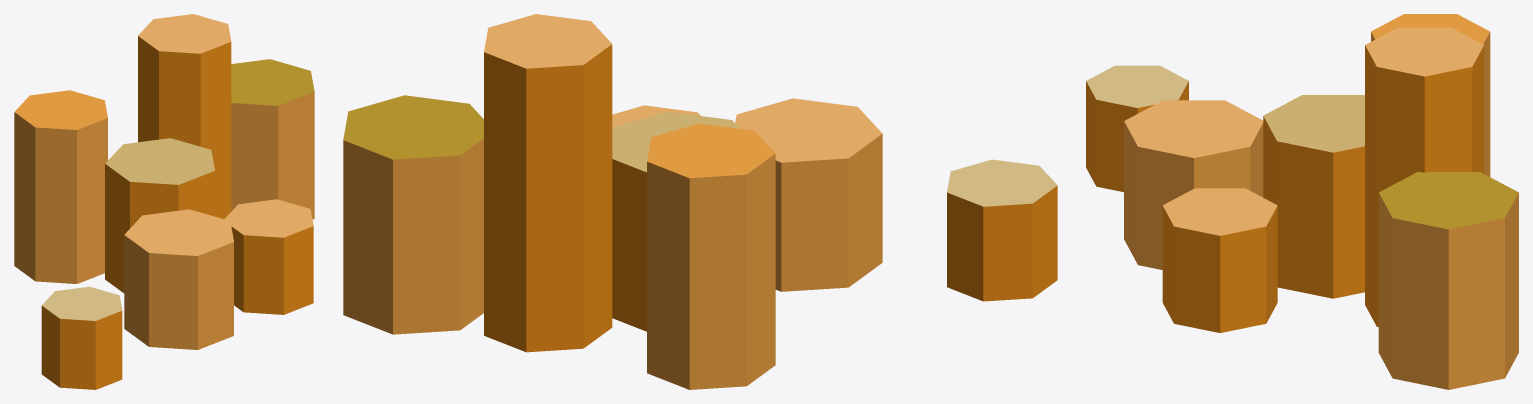
The model's file is treelogs 1.fbx.
3 views of the same model, side by side, from view 1: azimuth 30°, elevation 25°; view 2: azimuth 150°, elevation 25°; view 3: azimuth 270°, elevation 25° (orthographic). The views are drawn at different scales.
Visible parts, largest first — view 1: treelogs1; view 2: treelogs1; view 3: treelogs1.
Boxes of the visible parts, x1,y1,x2,y2 form: treelogs1: [14, 14, 314, 389]; treelogs1: [343, 14, 1057, 389]; treelogs1: [1086, 14, 1518, 389].
Bounding box in the file's own units: 6.24 × 3.21 × 4.84.
